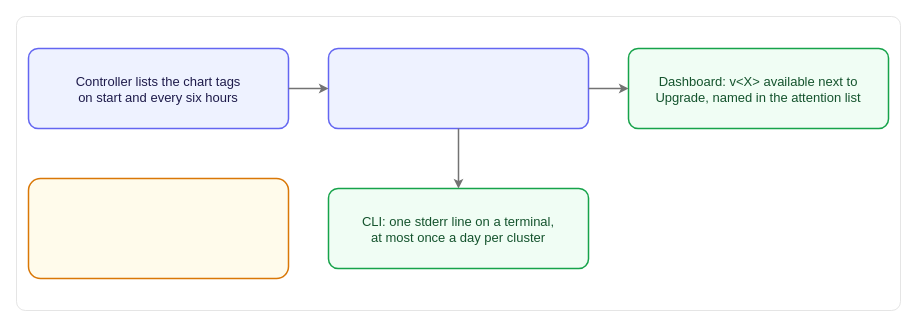
The diagram is 917 pixels wide and 327 high, and some of its shapes have lost their labels. The box of each missing label's shape, as (x1, y1, x2, y2) in pixels:
Keeps the newest final release in status.latestRelease: (327, 47, 589, 129)
Nothing is installed by the check. Upgrade, or helm upgrade, still moves Ichor: (27, 177, 289, 279)
